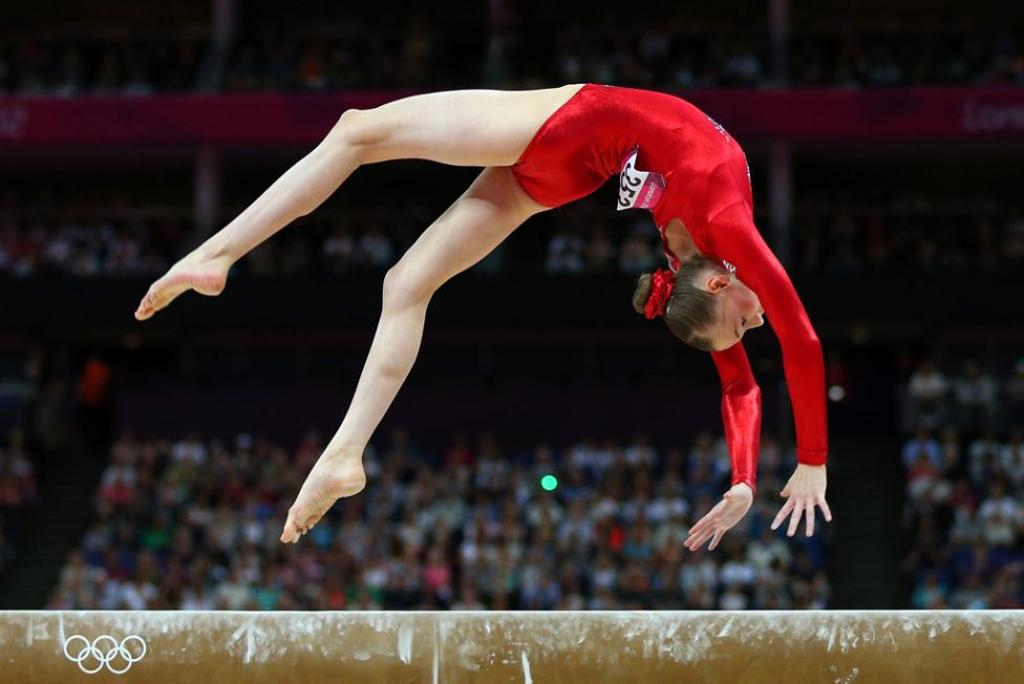face: (681, 295, 763, 351)
